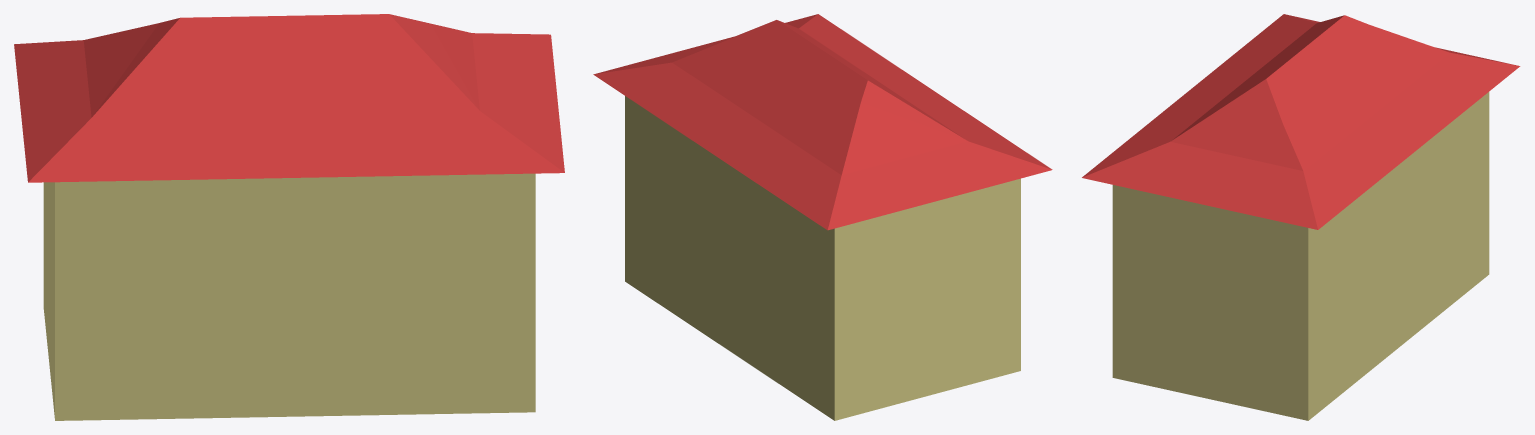
3 renders of one model, left to right at view 1: azimuth 30°, elevation 25°; view 2: azimuth 150°, elevation 25°; view 3: azimuth 270°, elevation 25°, orthographic. The views are drawn at different scales.
Parts seen in each view (by area): view 1: group_5, group_3, group_4; view 2: group_5, group_3, group_4; view 3: group_5, group_3, group_4.
Boxes of the visible parts, x1=… form: group_5: x1=43, y1=173, x2=535, y2=420; group_3: x1=20, y1=14, x2=564, y2=182; group_4: x1=14, y1=43, x2=564, y2=182; group_5: x1=625, y1=96, x2=1020, y2=420; group_3: x1=593, y1=14, x2=1051, y2=229; group_4: x1=787, y1=14, x2=1052, y2=230; group_5: x1=1112, y1=92, x2=1489, y2=420; group_3: x1=1082, y1=14, x2=1520, y2=229; group_4: x1=1082, y1=14, x2=1515, y2=184.
Bounding box in the file's own units: 22.18 × 19.05 × 13.32.
